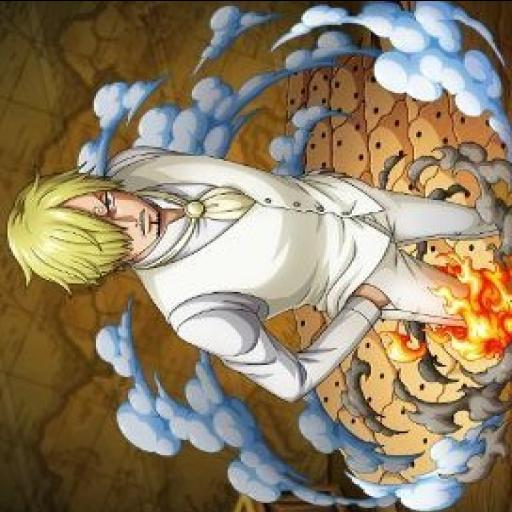sanji: (2, 78, 512, 458)
